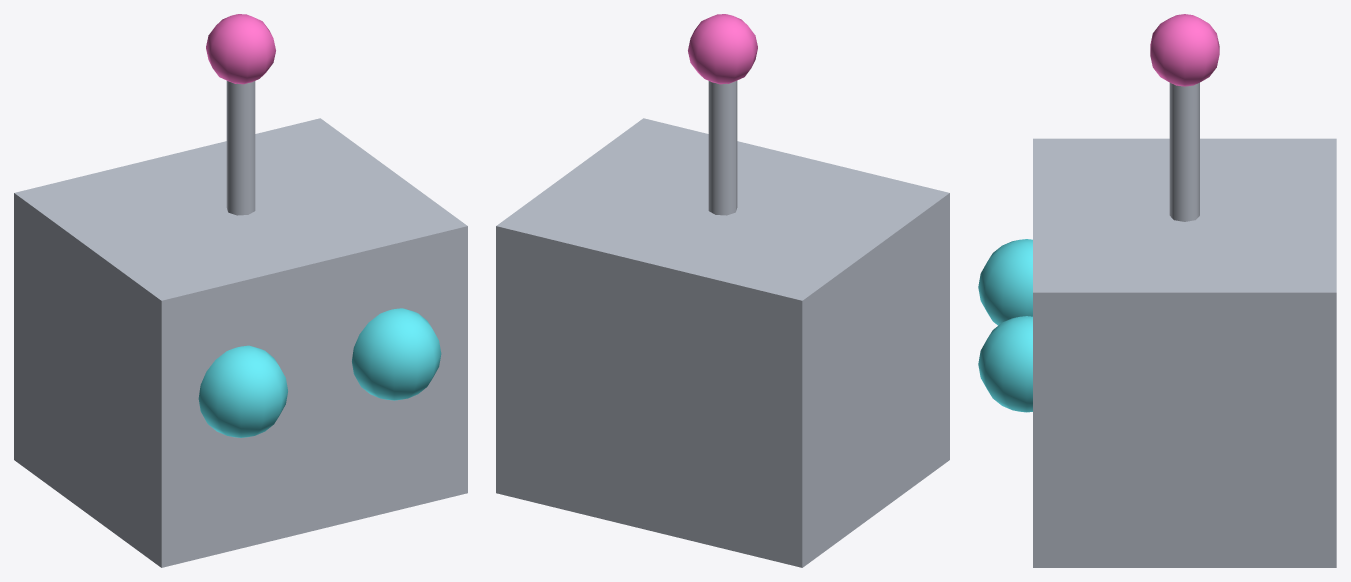
The model's file is companion_bot.glb.
The picture shows the model from 3 angles, left to right: view 1: azimuth 30°, elevation 25°; view 2: azimuth 150°, elevation 25°; view 3: azimuth 270°, elevation 25°; orthographic projection. The views are drawn at different scales.
Size of the model in its own units: 1.2 by 1.72 by 1.18.
